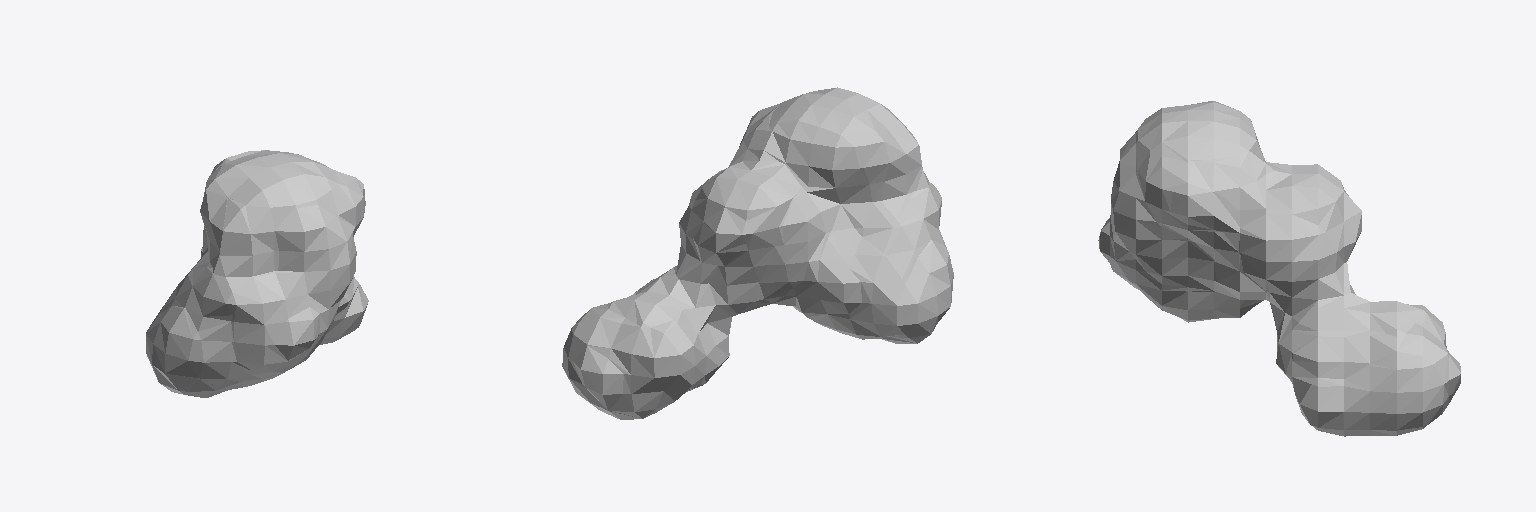
File: 1g7r_cms.obj
The picture shows the model from 3 angles: view 1: azimuth 30°, elevation 25°; view 2: azimuth 150°, elevation 25°; view 3: azimuth 270°, elevation 25°; orthographic projection.
Size of the model in its own units: 91.72 by 83.36 by 105.